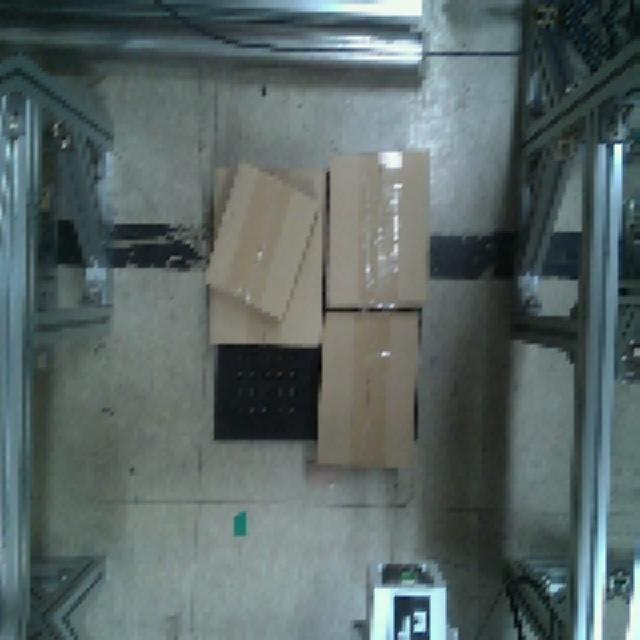box: (198, 156, 317, 322), (321, 144, 436, 312), (316, 314, 428, 474)
